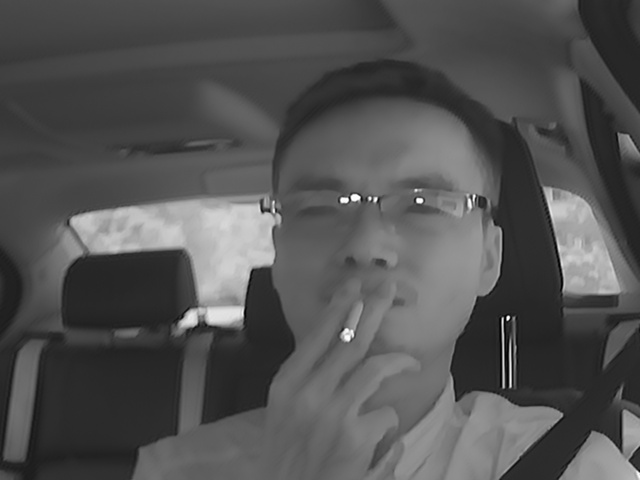hand: (288, 282, 422, 439)
